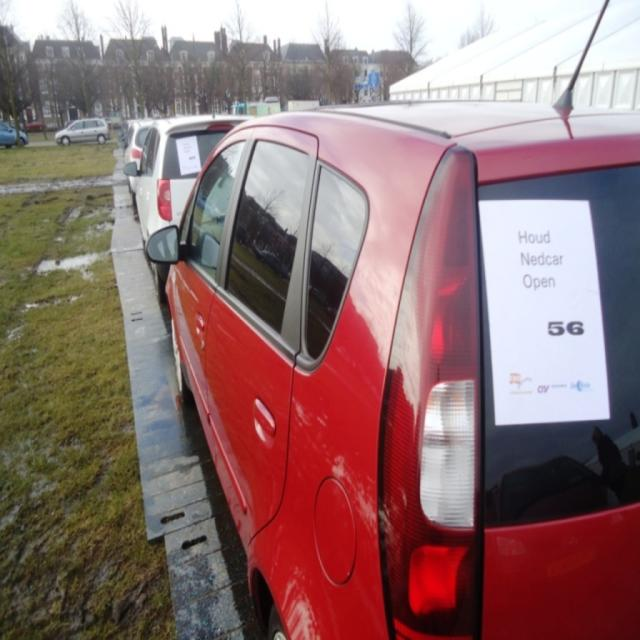car: (53, 121, 108, 147)
